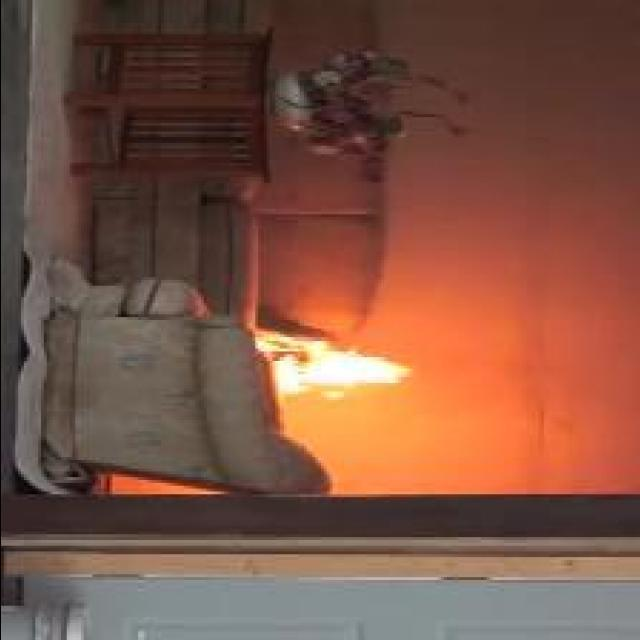Fire: (253, 337, 413, 400)
